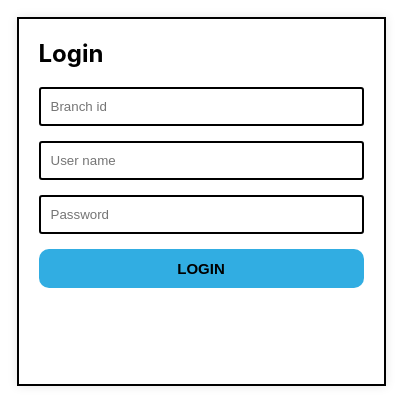
Test: Login Component › displays an error message on unregistered user login attempt
In the field with placeholder "Branch id": (201, 107) [38,87,364,126], type "10001"
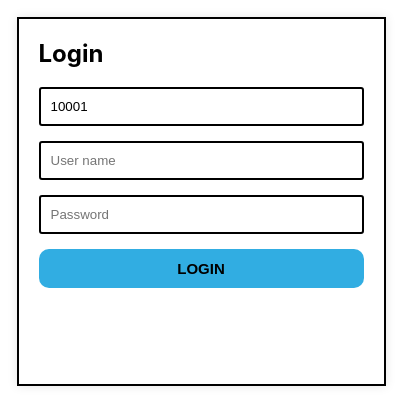
In the field with placeholder "User name": (201, 161) [38,141,364,180], type "invaliduser"
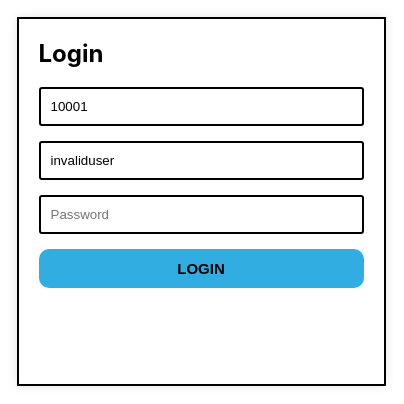
In the password field with placeholder "Password": (201, 215) [38,195,364,234], type "invalidpassword"
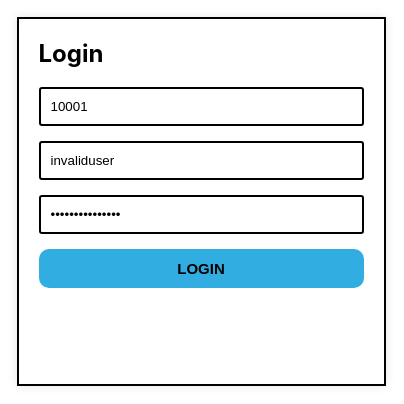
Click the button "Login": click(201, 269) [38,249,364,288]
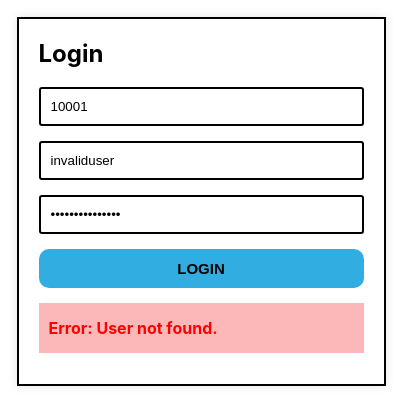
Expected: the text "Error: User not found." is shown, [38,303,364,353]
